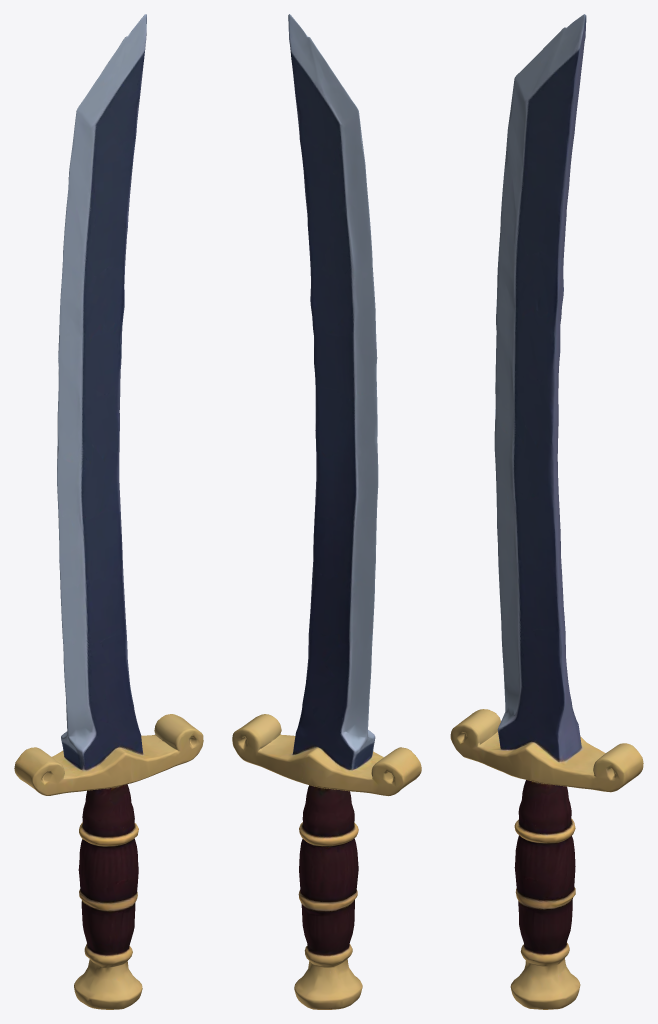
File: blade.glb
The picture shows the model from 3 angles, left to right: view 1: azimuth 30°, elevation 25°; view 2: azimuth 150°, elevation 25°; view 3: azimuth 330°, elevation 25°; orthographic projection.
Parts seen in each view (by area): view 1: tripo_node_5e574ea3-b592-4e65-adcb-3a2b474d541a; view 2: tripo_node_5e574ea3-b592-4e65-adcb-3a2b474d541a; view 3: tripo_node_5e574ea3-b592-4e65-adcb-3a2b474d541a.
Boxes of the visible parts, left/top/right/bottom form: tripo_node_5e574ea3-b592-4e65-adcb-3a2b474d541a: left=14, top=14, right=203, bottom=1009; tripo_node_5e574ea3-b592-4e65-adcb-3a2b474d541a: left=232, top=14, right=421, bottom=1009; tripo_node_5e574ea3-b592-4e65-adcb-3a2b474d541a: left=450, top=14, right=643, bottom=1009.
Size of the model in its own units: 0.2216 by 1.2 by 0.0855.
Materials: 1 (1 with a texture image).
